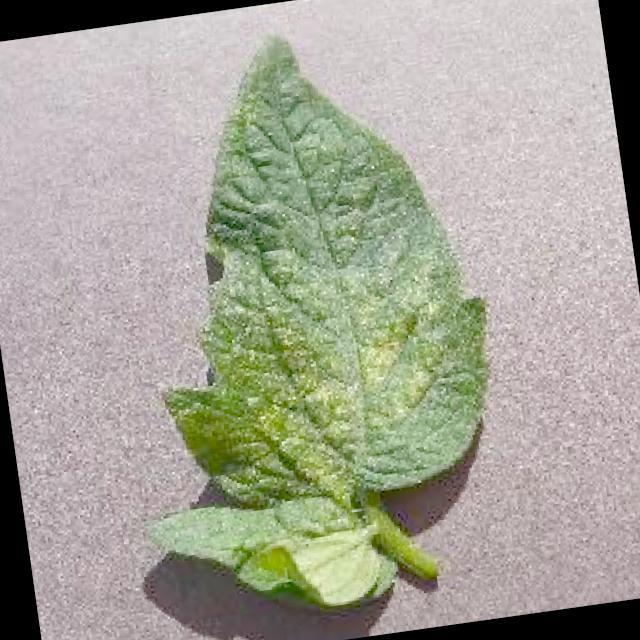Tomato spider mites leaf: (116, 6, 512, 518)
